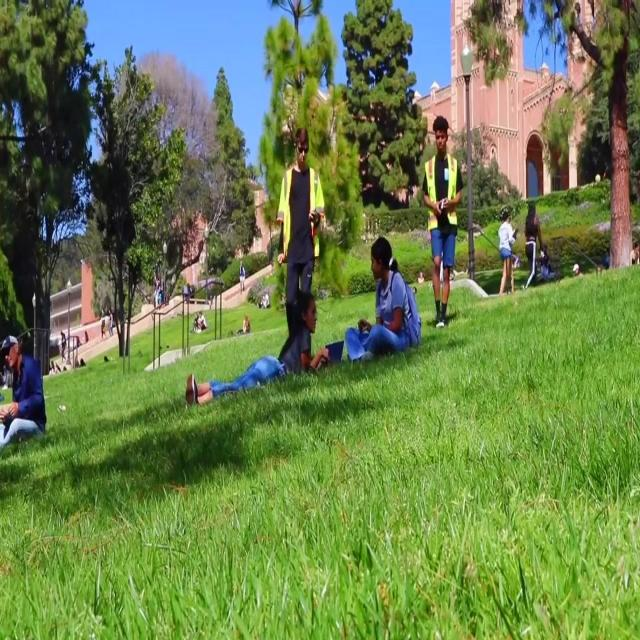Vest: (274, 166, 328, 259), (422, 155, 460, 230)
